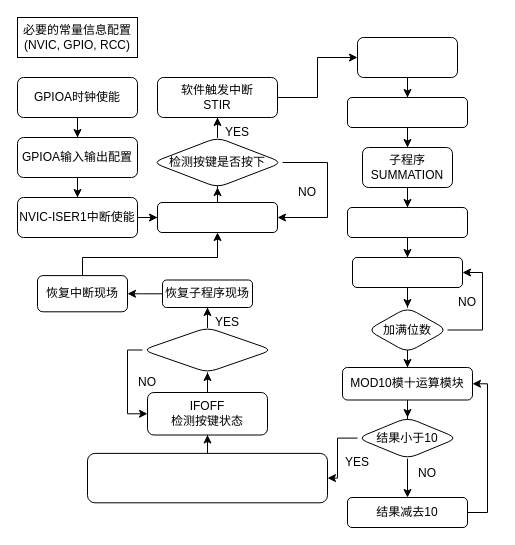
Image size: 515x545. Some labels were removed from this diagram. Here are the shapes that lost their labels. From the top down, the centre of each, then its label:
(407,57): IRQ40_Handler
(407,112): 参数传递与保护现场
(217,217): IFON
(407,222): 保护现场与参数传递
(407,272): 学号按位相加
(207,349): 判断按键是否弹起
(207,477): NUMSWITCH 比较输出的数字并跳转到对应的数码管显示
